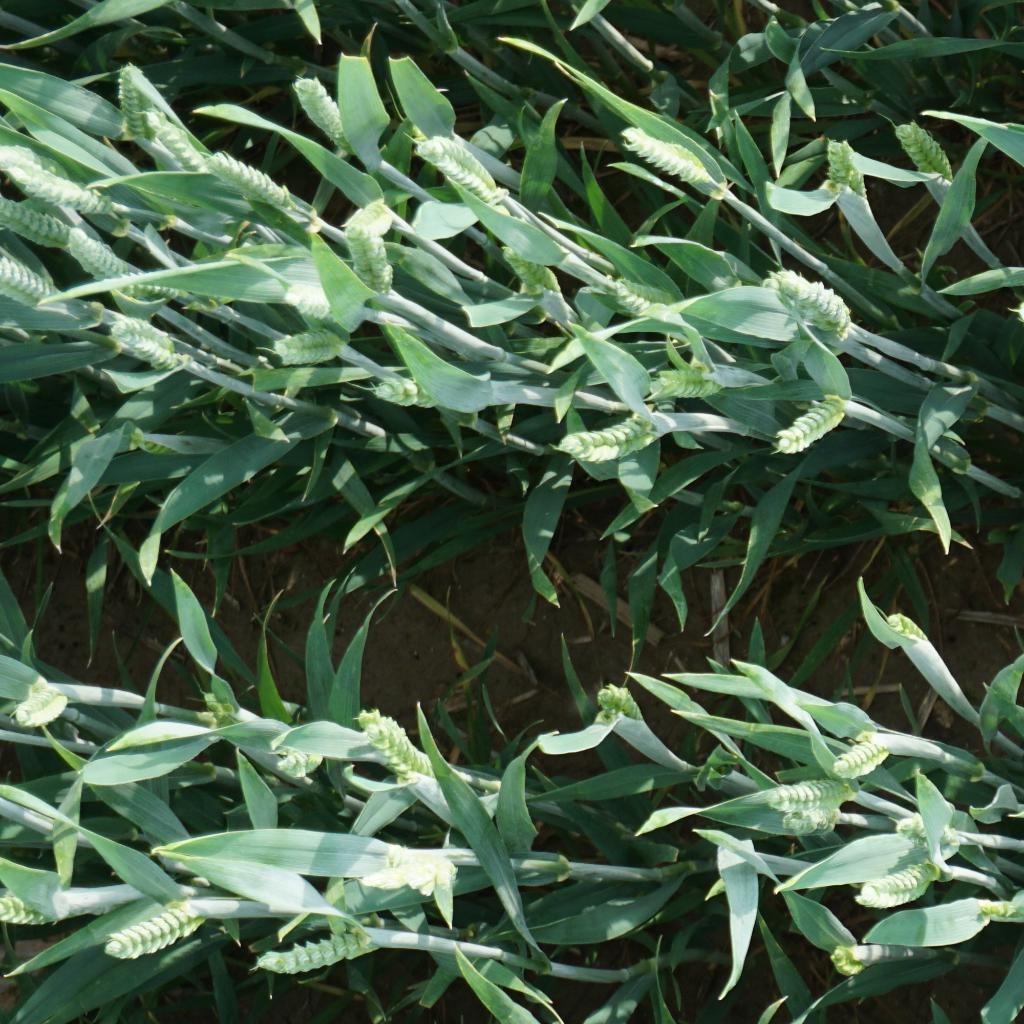0-0: (102, 896, 218, 963), (410, 133, 497, 218), (253, 918, 373, 975), (10, 160, 124, 218), (354, 706, 437, 785), (765, 262, 850, 338), (559, 411, 677, 464), (290, 71, 360, 160), (616, 124, 712, 186), (202, 150, 294, 212), (769, 393, 857, 457), (845, 860, 950, 911), (70, 224, 143, 296), (139, 111, 215, 179), (335, 225, 396, 299), (355, 855, 459, 898), (885, 121, 953, 185), (0, 195, 80, 248), (496, 244, 563, 301), (109, 326, 196, 369), (271, 329, 350, 374), (0, 252, 62, 309), (114, 61, 156, 144), (13, 676, 73, 733), (602, 278, 678, 319), (829, 733, 898, 778), (764, 777, 858, 810), (370, 374, 455, 410), (280, 279, 345, 325), (825, 135, 870, 201), (333, 194, 396, 240), (0, 141, 64, 186), (109, 316, 178, 357), (0, 889, 67, 928), (592, 679, 646, 727), (275, 736, 330, 780), (892, 812, 958, 847), (775, 806, 847, 838), (112, 274, 188, 303), (651, 370, 722, 401), (882, 610, 930, 648), (829, 937, 866, 977), (982, 890, 1024, 923), (137, 435, 181, 455)
